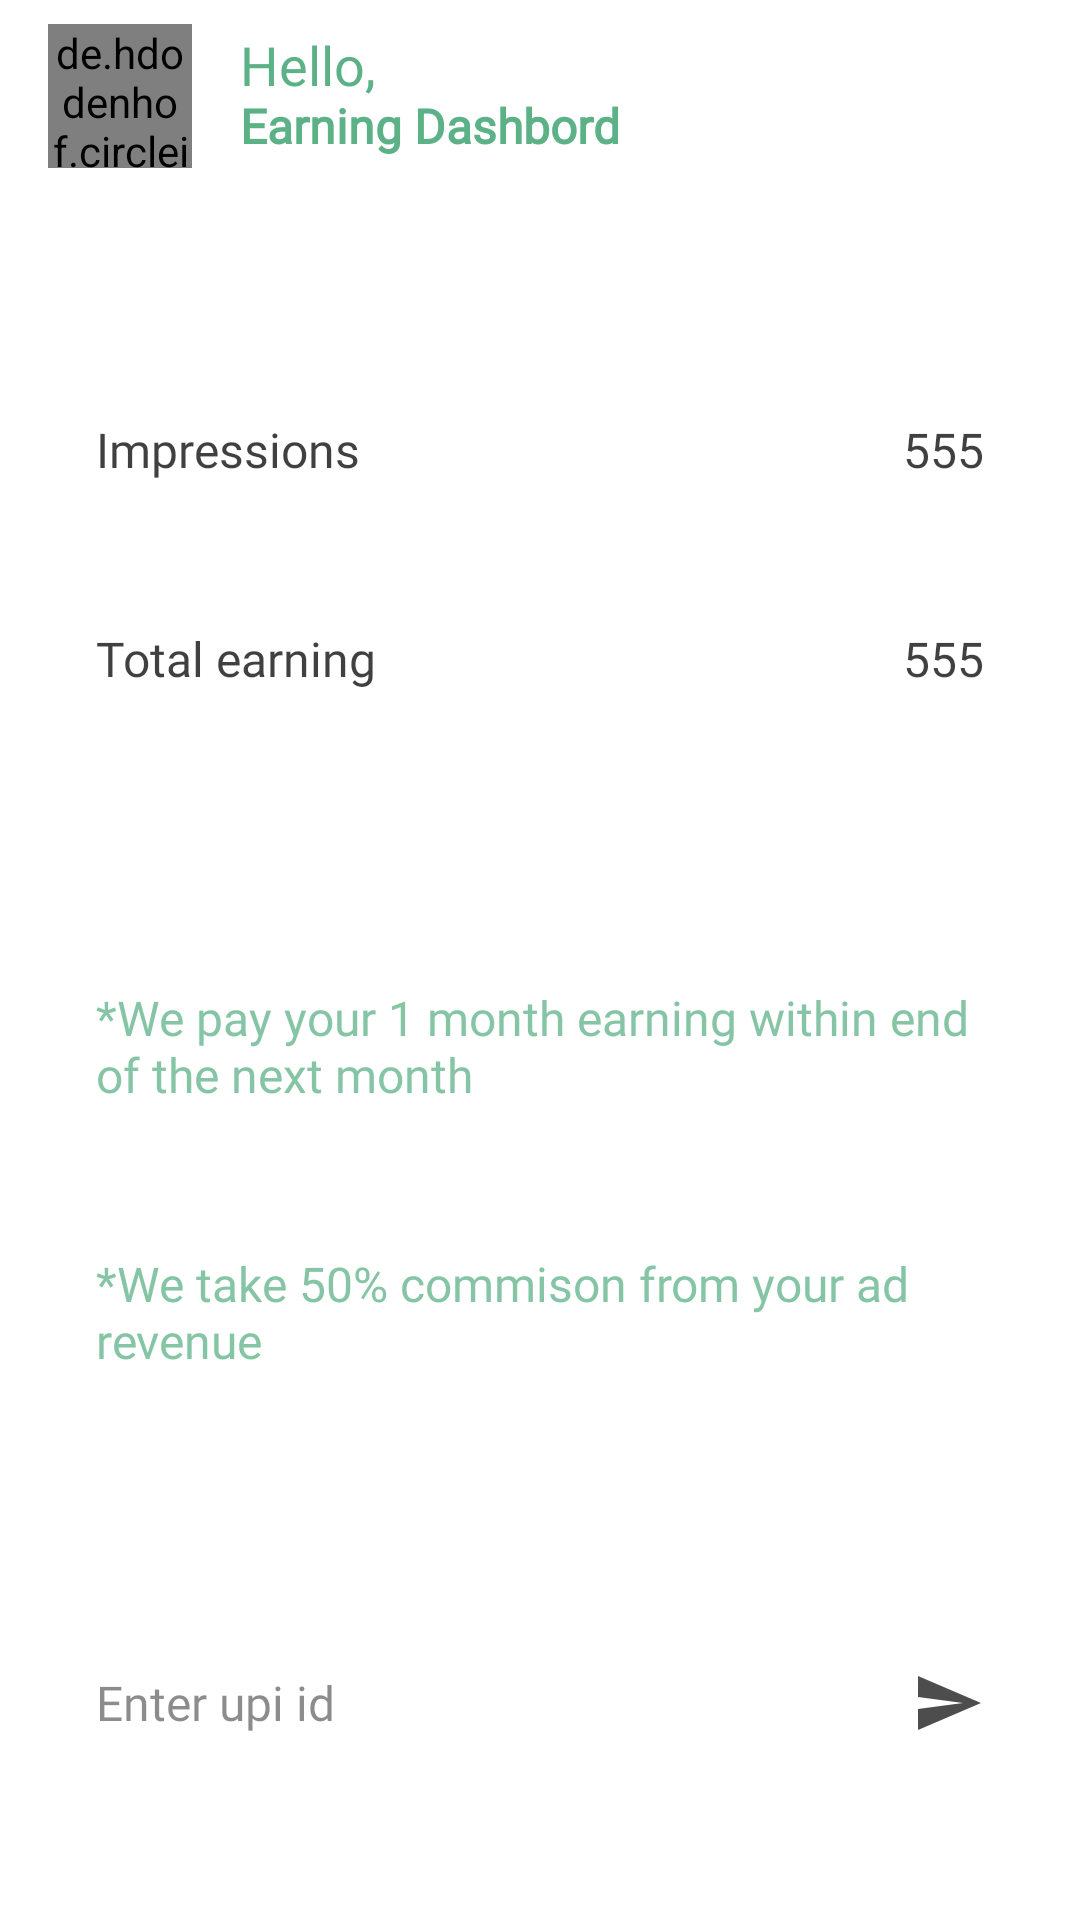

Locate icon controls on the screen. Image size 1080×1920, boxes as (x1,y1,x2,y2).
send: (918,1676,981,1730)
